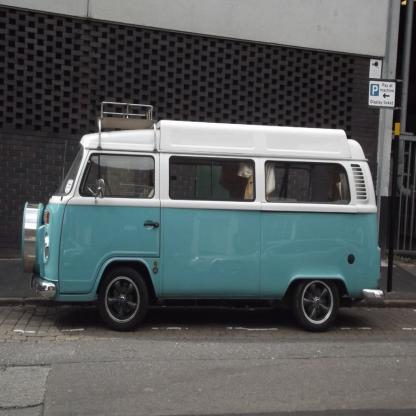Bus: (20, 101, 386, 333)
